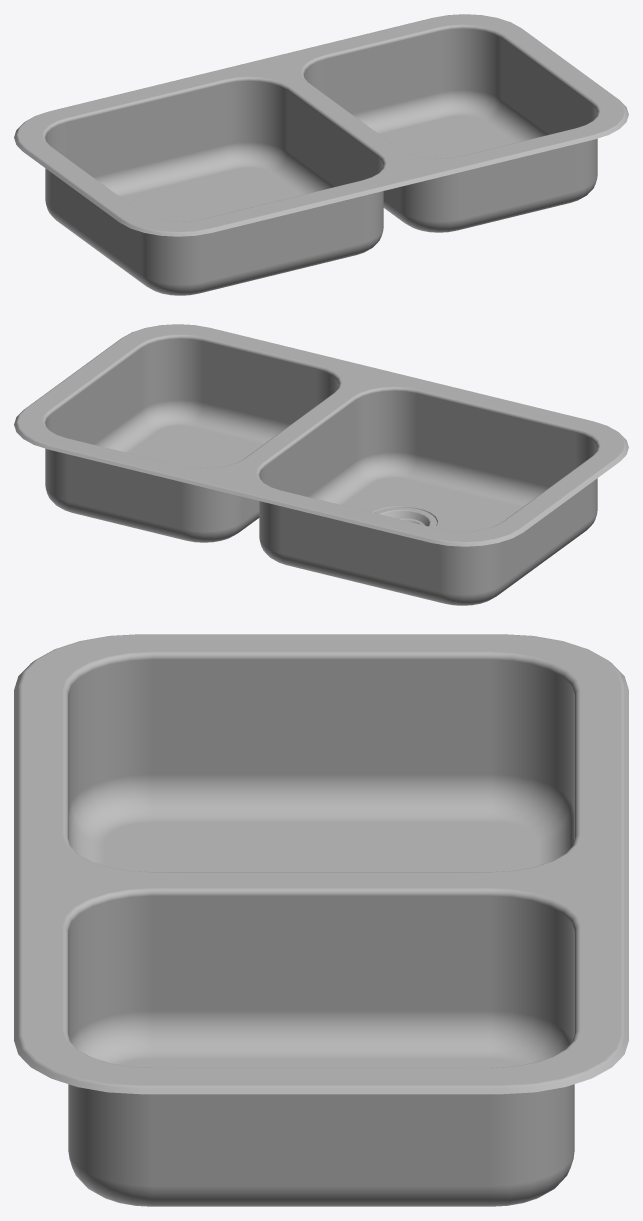
Rendered from obj_double_sink_0fc7c5.glb.
The picture shows the model from 3 angles, top to bottom: view 1: azimuth 30°, elevation 25°; view 2: azimuth 150°, elevation 25°; view 3: azimuth 270°, elevation 25°; orthographic projection. The views are drawn at different scales.
Visible parts, largest first — view 1: obj_double_sink_0fc7c5; view 2: obj_double_sink_0fc7c5; view 3: obj_double_sink_0fc7c5.
Boxes of the visible parts, x1=… form: obj_double_sink_0fc7c5: x1=14, y1=14, x2=628, y2=295; obj_double_sink_0fc7c5: x1=14, y1=324, x2=628, y2=605; obj_double_sink_0fc7c5: x1=14, y1=634, x2=628, y2=1206.
Bounding box in the file's own units: 0.8 × 0.1444 × 0.4543.
1 material, 1 textured.
